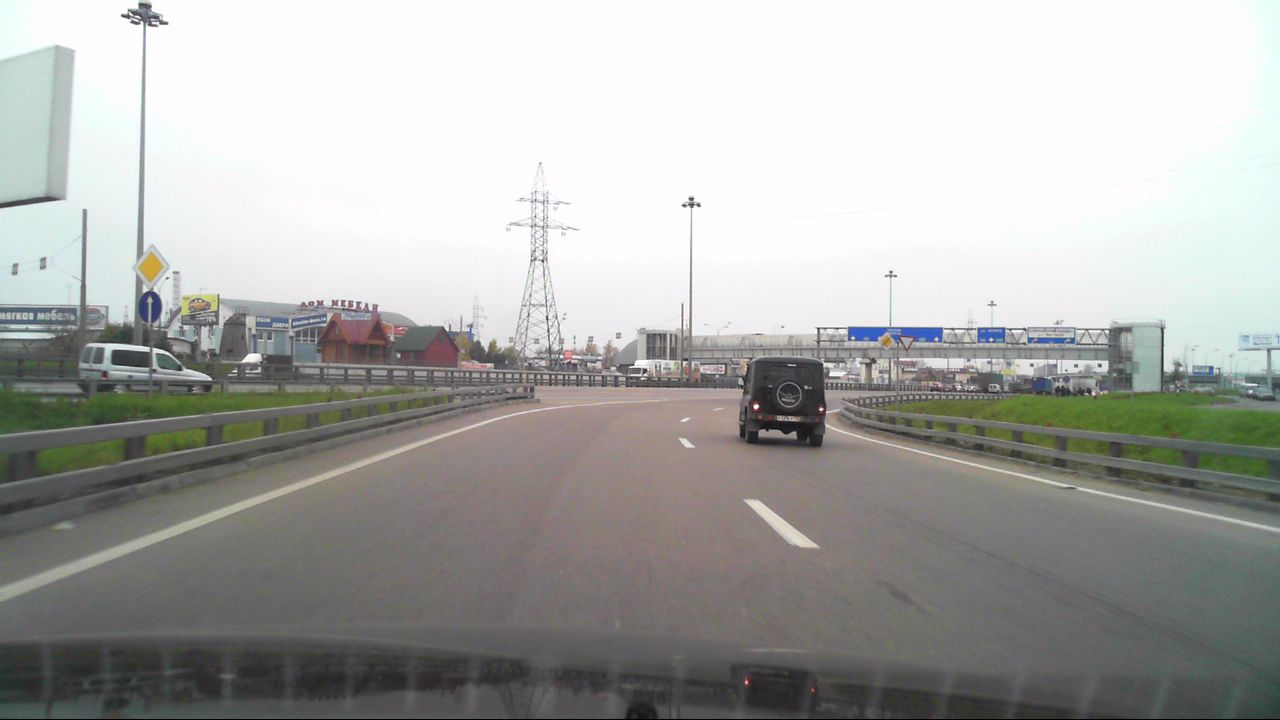main road: (877, 332, 895, 352)
